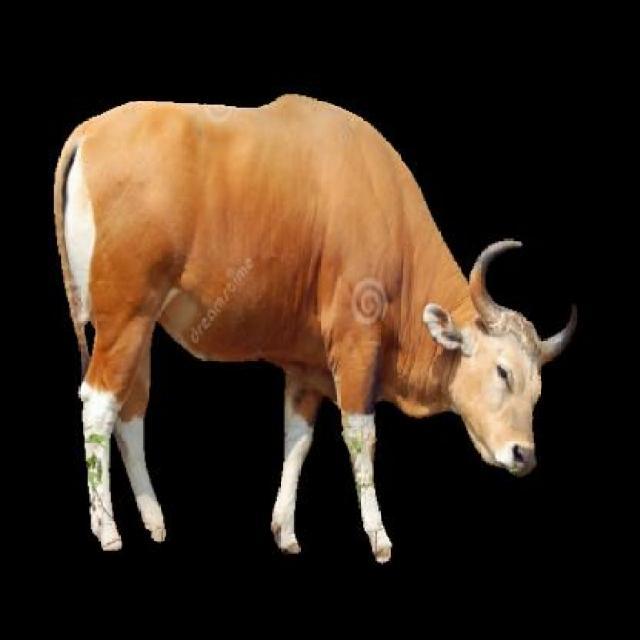Cow: (52, 94, 582, 560)
